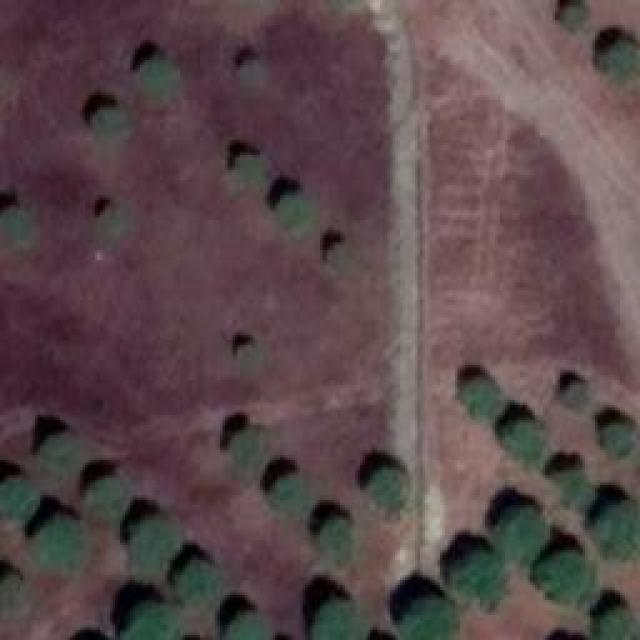Tree: (540, 550, 593, 608), (35, 515, 88, 570), (498, 505, 553, 555), (595, 498, 640, 558), (455, 550, 505, 600), (404, 597, 457, 640), (125, 600, 180, 640), (497, 420, 545, 463), (83, 478, 128, 521), (312, 600, 360, 640), (365, 465, 405, 510), (130, 520, 170, 565), (0, 478, 40, 521), (173, 558, 213, 601), (465, 375, 500, 423), (325, 515, 358, 563), (597, 38, 635, 78), (595, 607, 640, 640), (40, 435, 75, 475), (547, 465, 585, 500), (225, 612, 268, 640), (598, 423, 633, 456), (230, 430, 263, 465), (143, 57, 173, 95), (268, 475, 301, 508), (93, 105, 123, 140), (0, 208, 28, 243), (560, 382, 590, 410), (560, 2, 588, 30), (272, 190, 300, 215), (235, 345, 260, 370), (0, 577, 22, 604), (235, 153, 258, 173), (240, 62, 260, 80)
